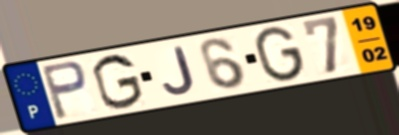6: (198, 36, 249, 93)
7: (299, 14, 343, 76)
G: (90, 53, 147, 112), (253, 25, 307, 84)
J: (161, 44, 197, 96)
P: (38, 59, 90, 122)
